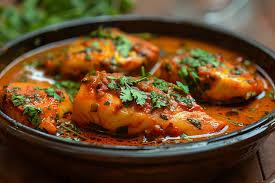Fish Curry: (14, 31, 268, 159)
